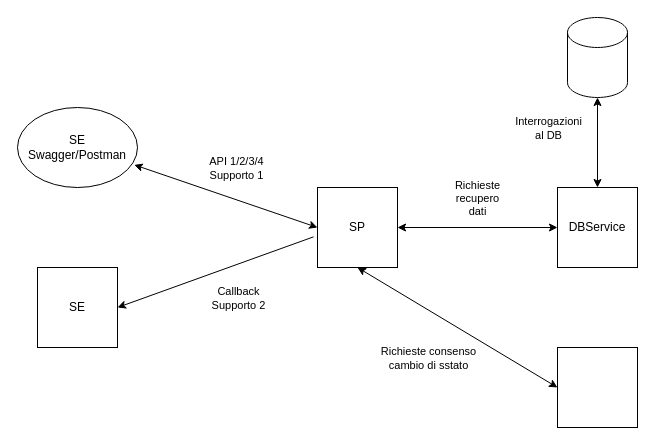
The diagram is 655 pixels wide and 445 high, and some of its shapes have lost their labels. The shapes that lost their labels are listed below. From the top down, each one's box as (x1, y1, x2, y2) in pixels, then its label:
(566, 16, 628, 98): DB
(556, 346, 638, 428): WFService
